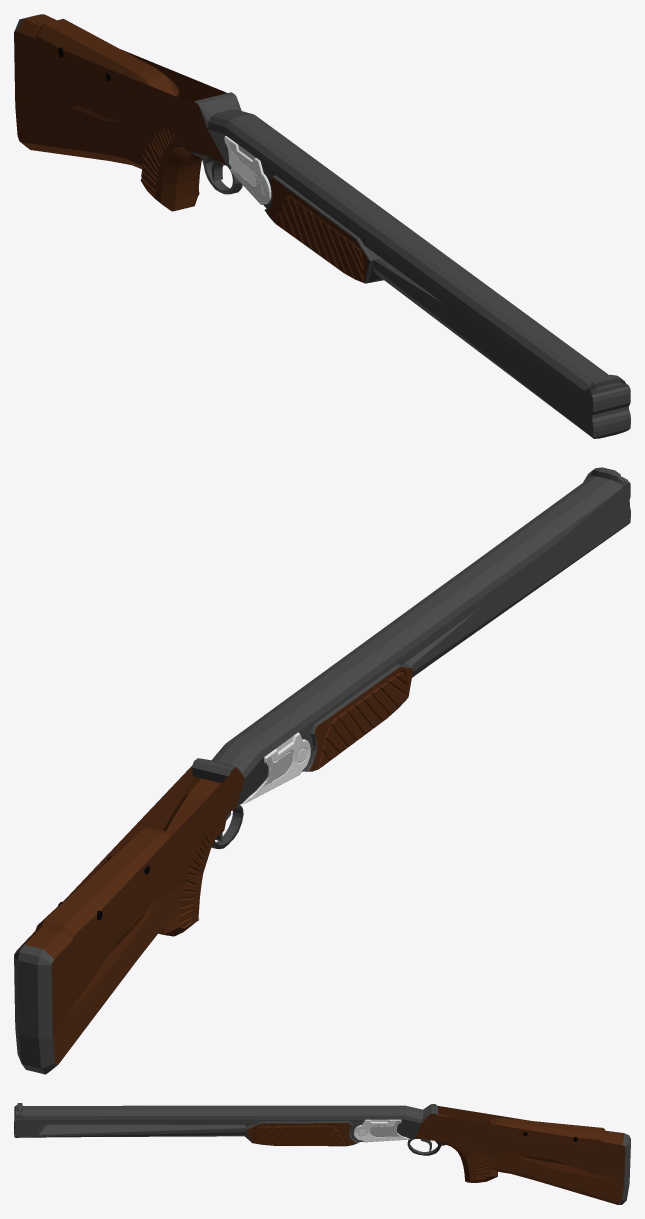
Rendered from Shotgun.fbx.
3 views of the same model, one above another, from view 1: azimuth 30°, elevation 25°; view 2: azimuth 150°, elevation 25°; view 3: azimuth 270°, elevation 25° (orthographic). The views are drawn at different scales.
Parts seen in each view (by area): view 1: Shotgun; view 2: Shotgun; view 3: Shotgun.
Part boxes in pixels (x1,y1,x2,y2): Shotgun: (14,14,630,438); Shotgun: (14,467,630,1074); Shotgun: (14,1103,630,1204).
Bounding box in the file's own units: 9.49 × 37.7 × 217.
